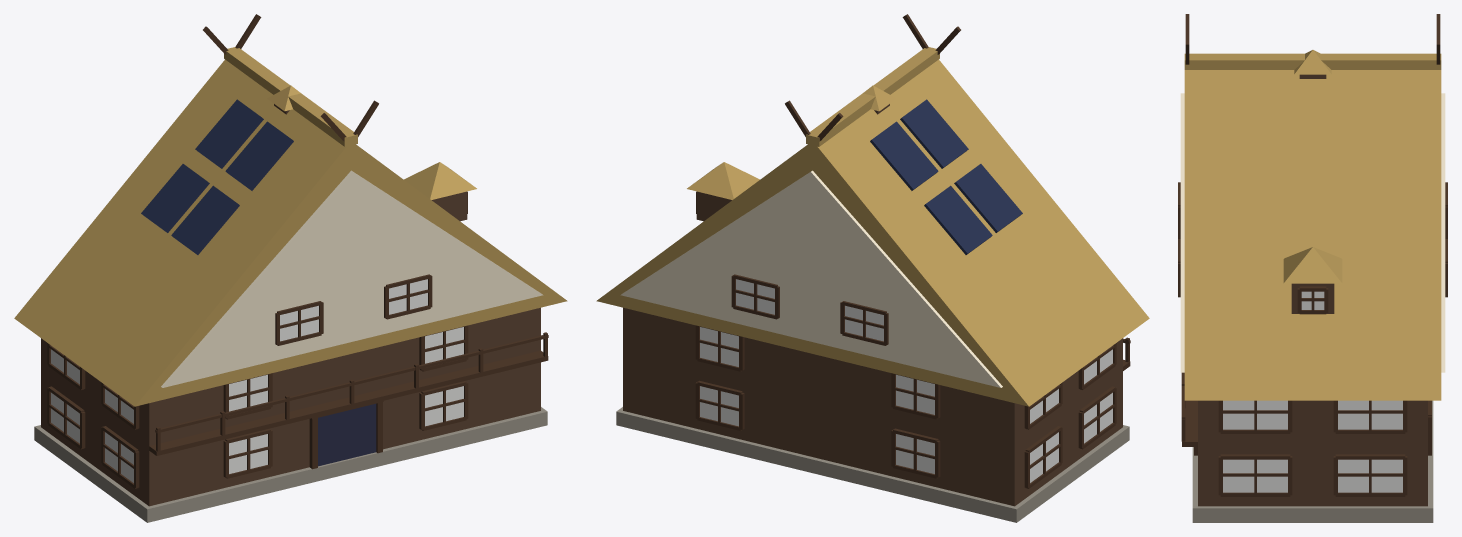
The model's file is house-2x1-2f-third-gassho-a-solar.glb.
The picture shows the model from 3 angles, left to right: view 1: azimuth 30°, elevation 25°; view 2: azimuth 150°, elevation 25°; view 3: azimuth 270°, elevation 25°; orthographic projection. The views are drawn at different scales.
Visible parts, largest first — view 1: house-2x1-2f-third-gassho-a-solar; view 2: house-2x1-2f-third-gassho-a-solar; view 3: house-2x1-2f-third-gassho-a-solar.
Boxes of the visible parts, x1,y1,x2,y2 form: house-2x1-2f-third-gassho-a-solar: (14, 14, 567, 522); house-2x1-2f-third-gassho-a-solar: (596, 14, 1149, 522); house-2x1-2f-third-gassho-a-solar: (1178, 14, 1447, 522).
Bounding box in the file's own units: 1.99 × 1.62 × 1.01.
Materials: 1 (1 with a texture image).
